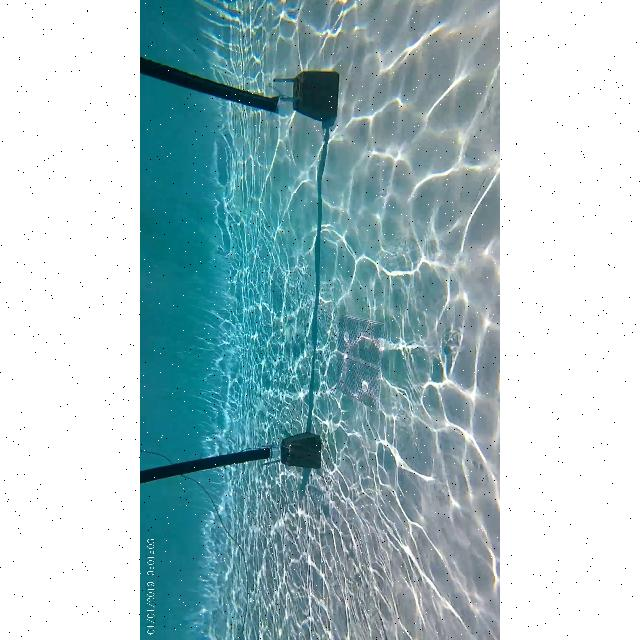prequal gate: (140, 61, 296, 486)
prequal gate leg l: (140, 427, 328, 489)
prequal gate leg r: (140, 46, 338, 132)
